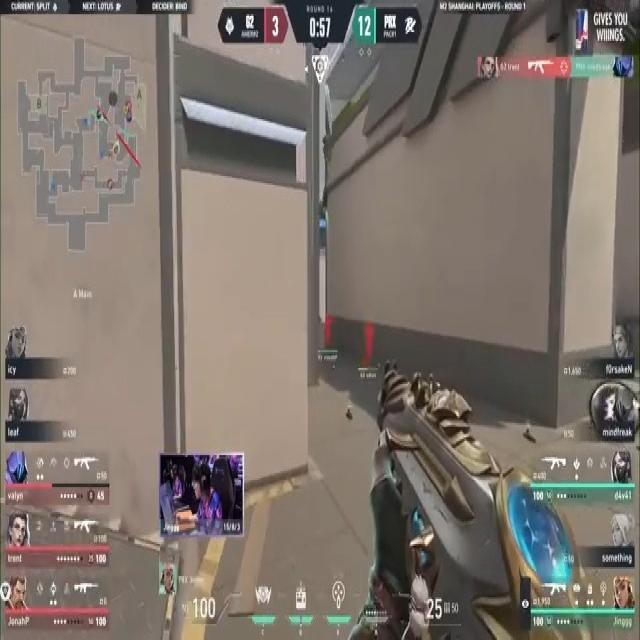enemy behind wall: (362, 319, 377, 362), (322, 313, 338, 348)
